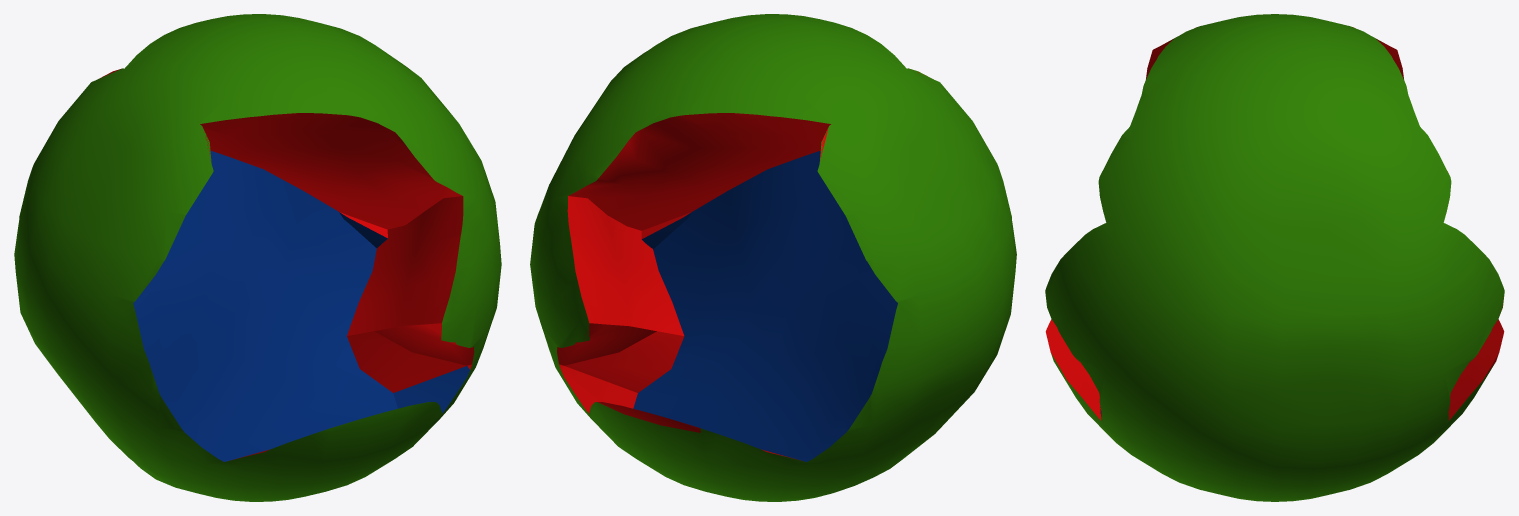
Rendered from vb_viridion.fbx.
The picture shows the model from 3 angles, left to right: view 1: azimuth 30°, elevation 25°; view 2: azimuth 150°, elevation 25°; view 3: azimuth 270°, elevation 25°; orthographic projection.
Visible parts, largest first — view 1: Viridion; view 2: Viridion; view 3: Viridion.
Part boxes in pixels (x1,y1,x2,y2): Viridion: (14,14,501,501); Viridion: (530,14,1016,501); Viridion: (1045,14,1504,501).
Bounding box in the file's own units: 1.98 × 2 × 1.88.
